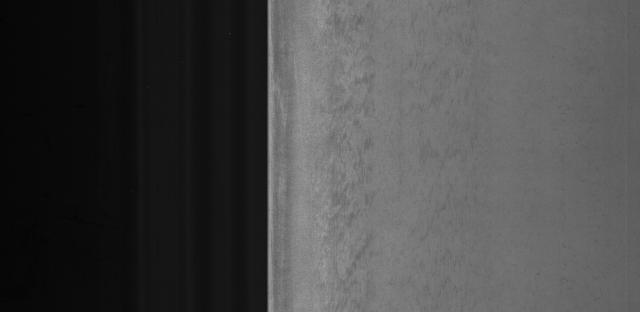silk_spot: (317, 20, 382, 274)
